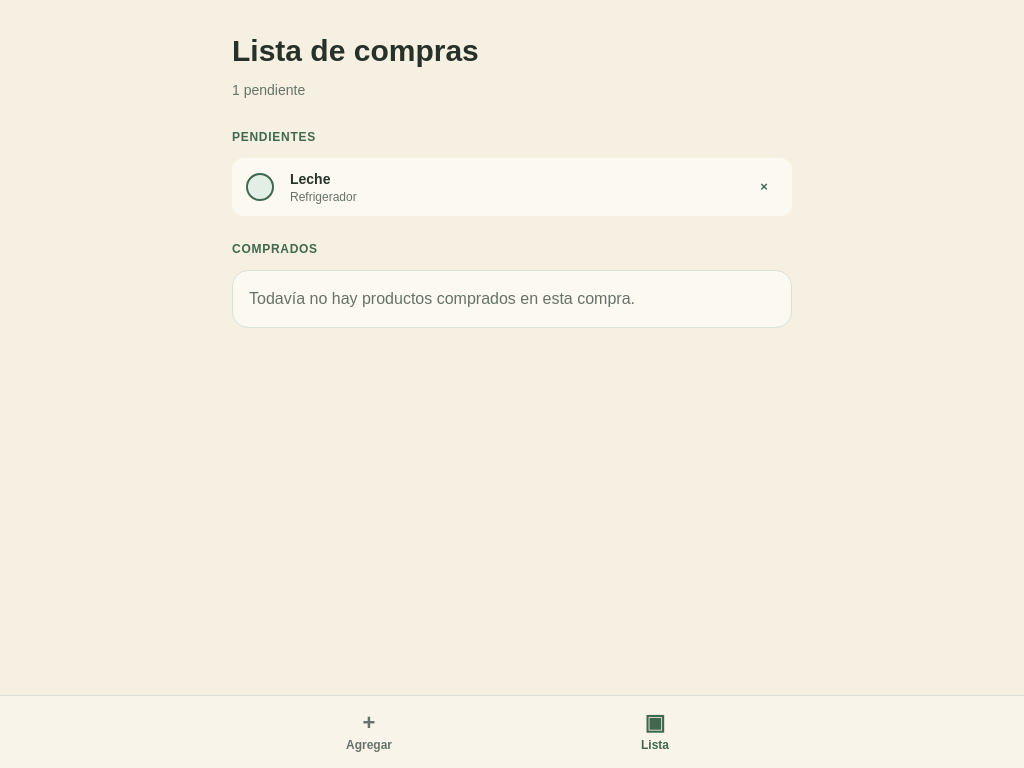
it: compra actual › conserva una compra local cuando la API falla
Expected: the heading named "Pendientes (1)" is shown, top-left (232, 130), bottom-right (316, 144)
Click the button named "Comprado": (260, 187) top-left (238, 165), bottom-right (282, 209)
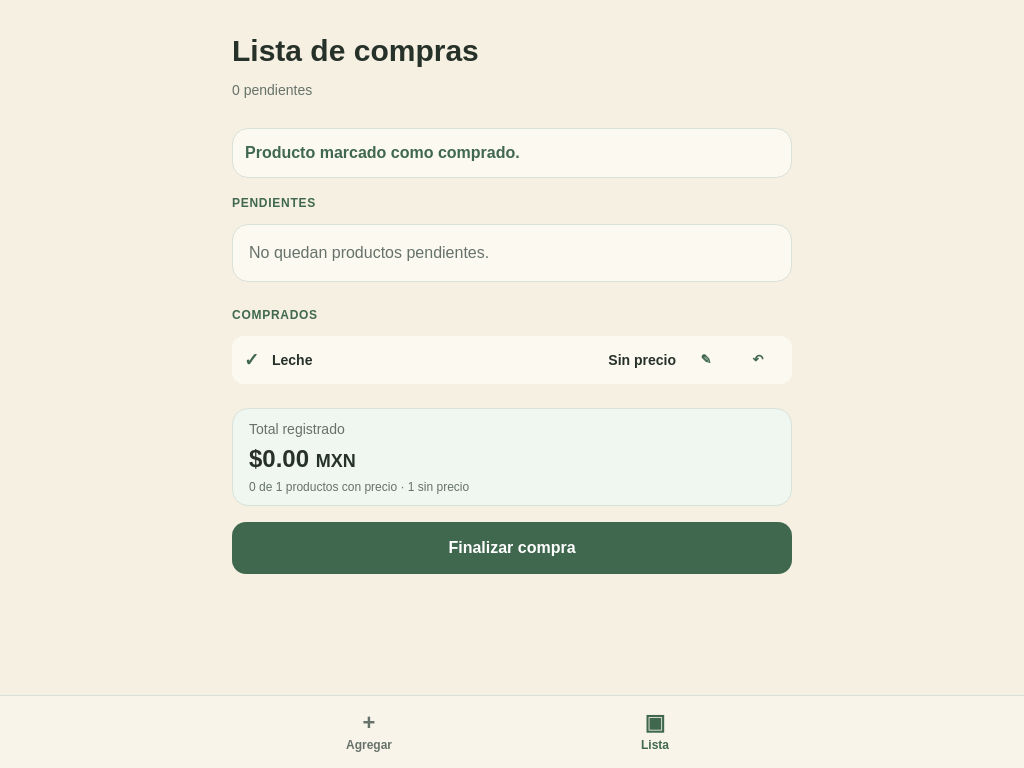
Now the heading named "Pendientes (0)" is shown, box top-left (232, 196), bottom-right (316, 210)
Now the heading named "Comprados (1)" is shown, box top-left (232, 308), bottom-right (318, 322)
